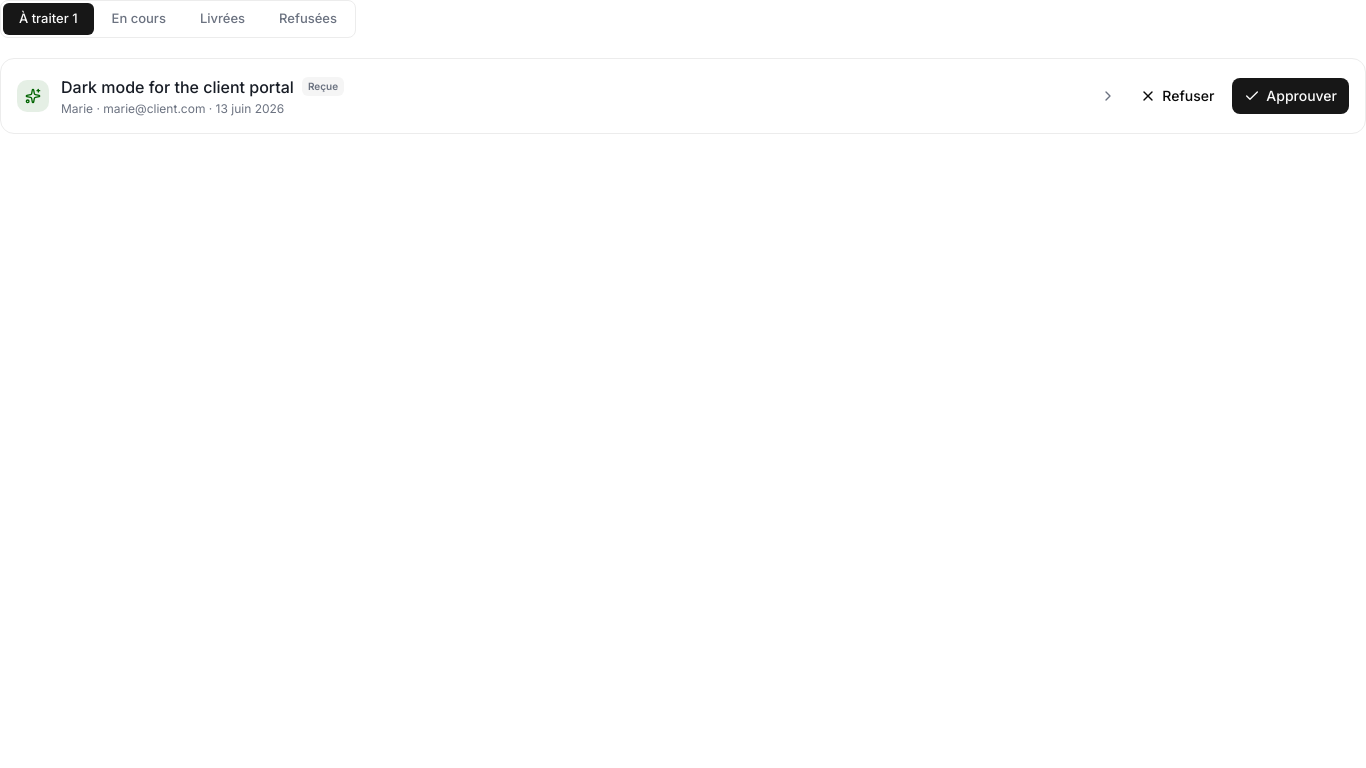
it: moderation inbox (#6) › approves via the picker dialog and clears the submission to the empty state
Expected: the text "Dark mode for the client portal" is shown, [61,74,294,98]
Click the button "Approuver" at point(1291, 96), box [1232,78,1349,114]
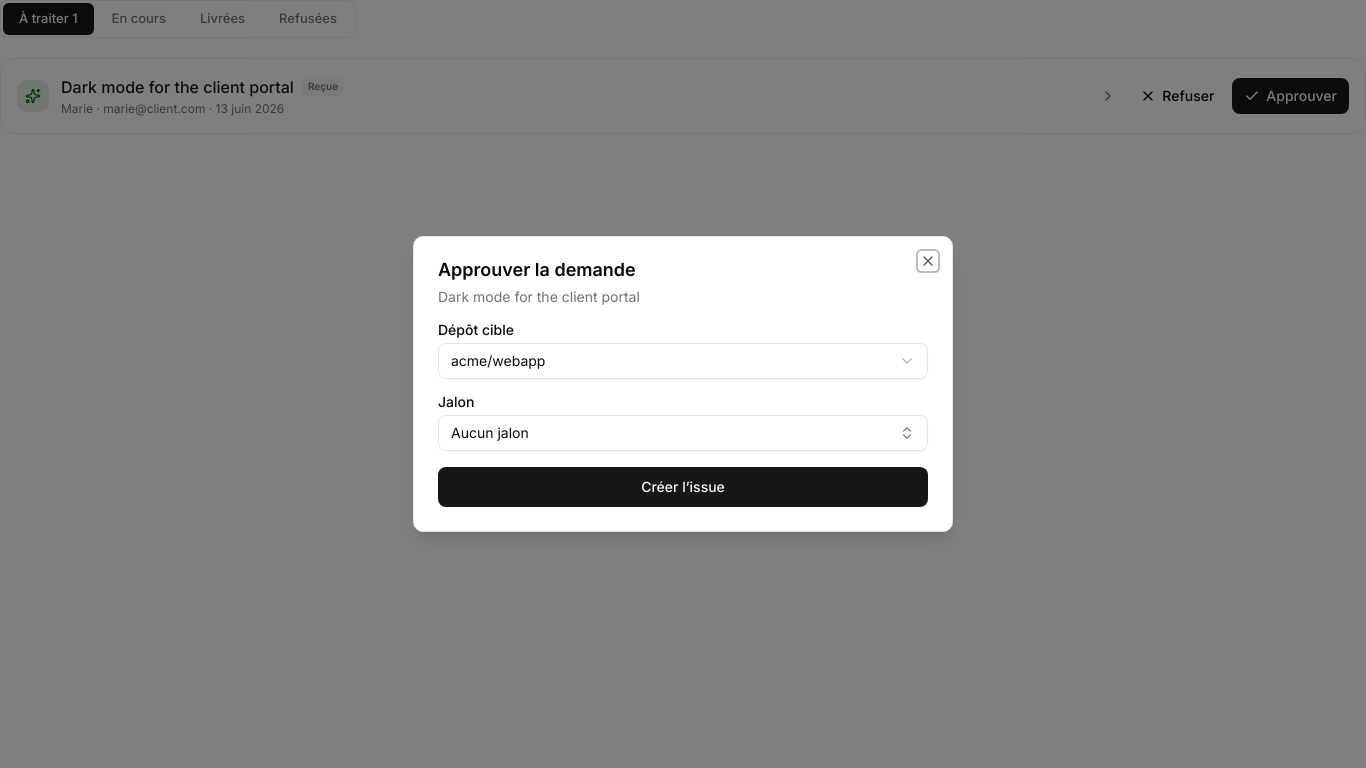
Click the button "Créer l’issue" at point(683, 487), box [438,467,928,507]
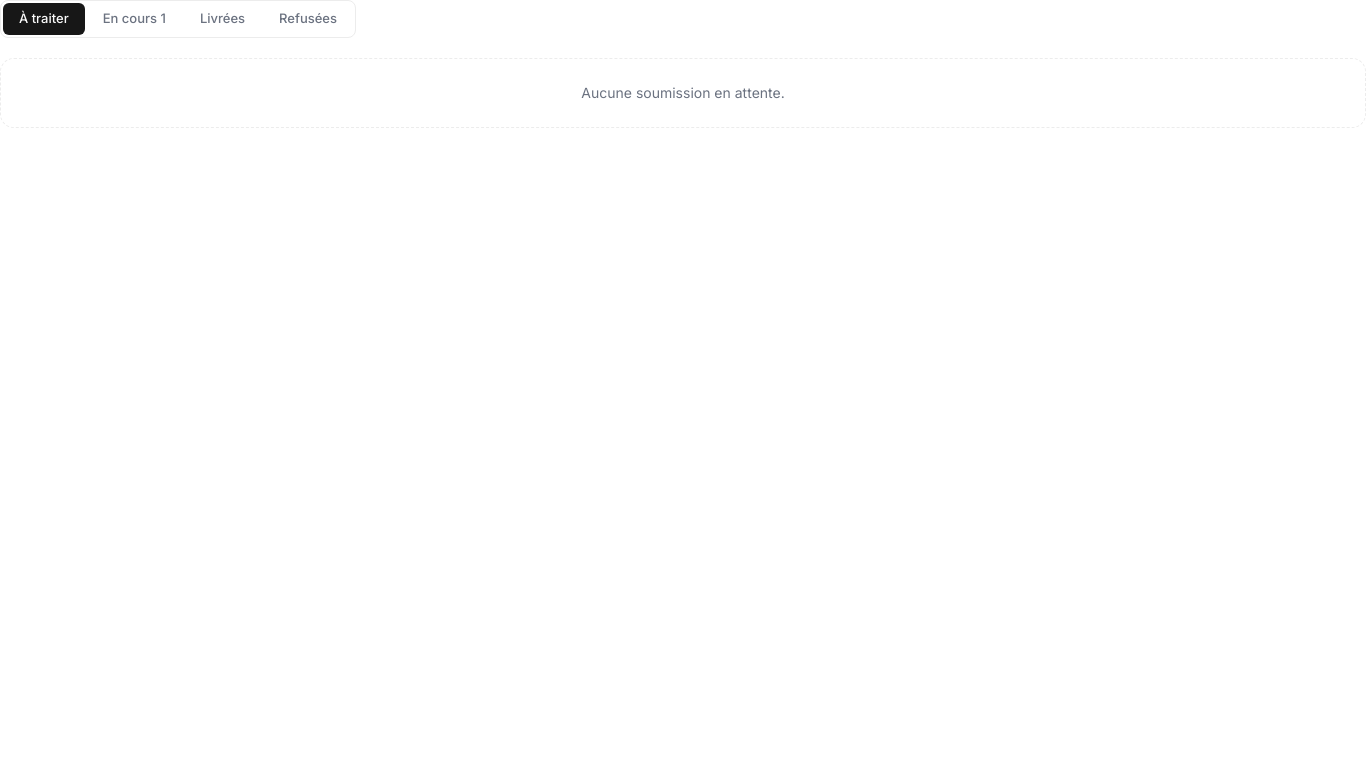
Now the button "Dark mode for the client portal" is gone
Now the text "Aucune soumission en attente." is shown, box [0,58,1365,128]
